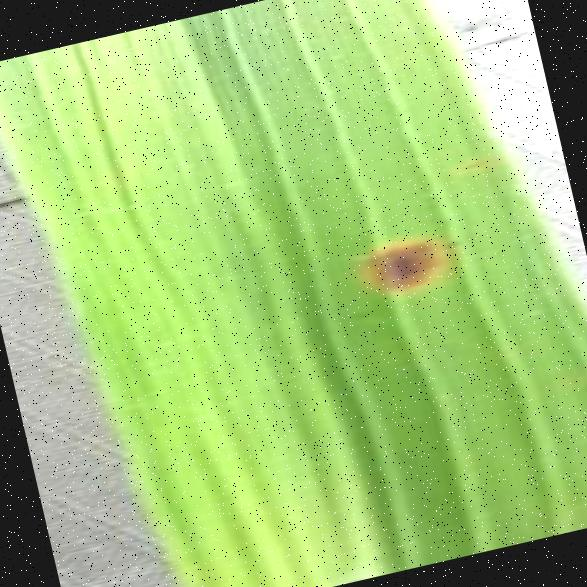Brown_Spot: (332, 211, 462, 324), (449, 150, 488, 178), (436, 225, 464, 254)
